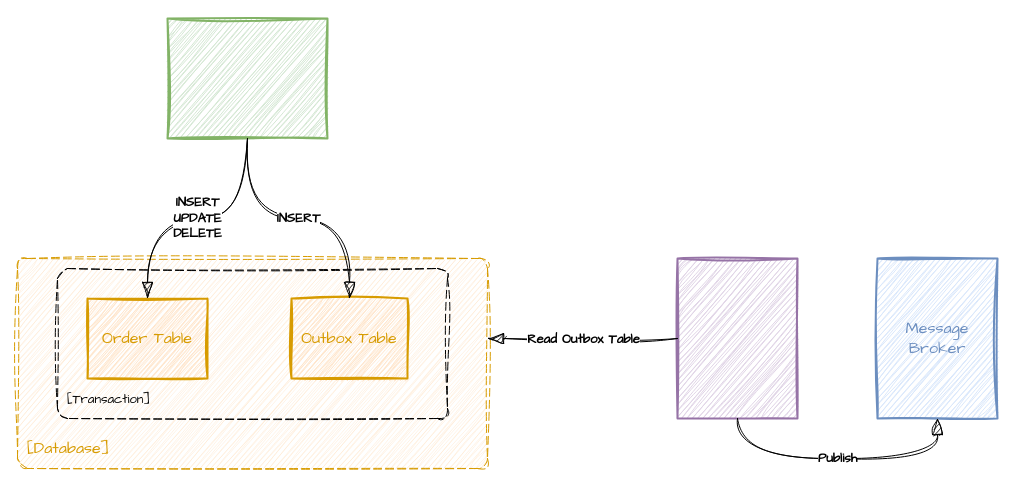
Some shapes in this 1016 by 486 pixel diagram are drawn without their labels. Here are the shapes that lost their labels. From the top down, the box of each, then its label:
(166, 17, 328, 139): Order Service
(676, 257, 798, 419): Message Relay
